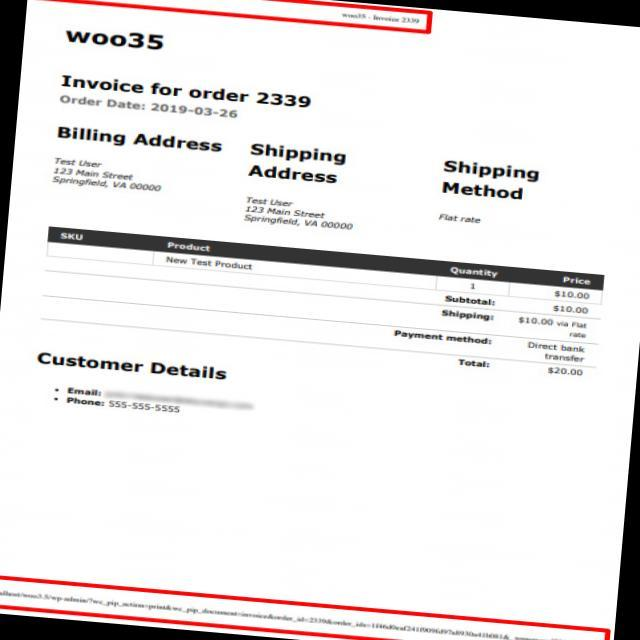customer_address: (48, 167, 167, 198)
customer_name: (51, 150, 107, 170)
invoice_date: (148, 102, 244, 124)
invoice_number: (255, 87, 313, 111)
invoice_subtotal: (550, 301, 592, 316)
invoice_total: (544, 366, 594, 378)
item_description: (162, 253, 255, 274)
item_quantity: (462, 281, 484, 293)
item_total_price: (549, 286, 598, 299)
supplier_address: (50, 166, 167, 197)
supplier_name: (61, 22, 171, 56)
